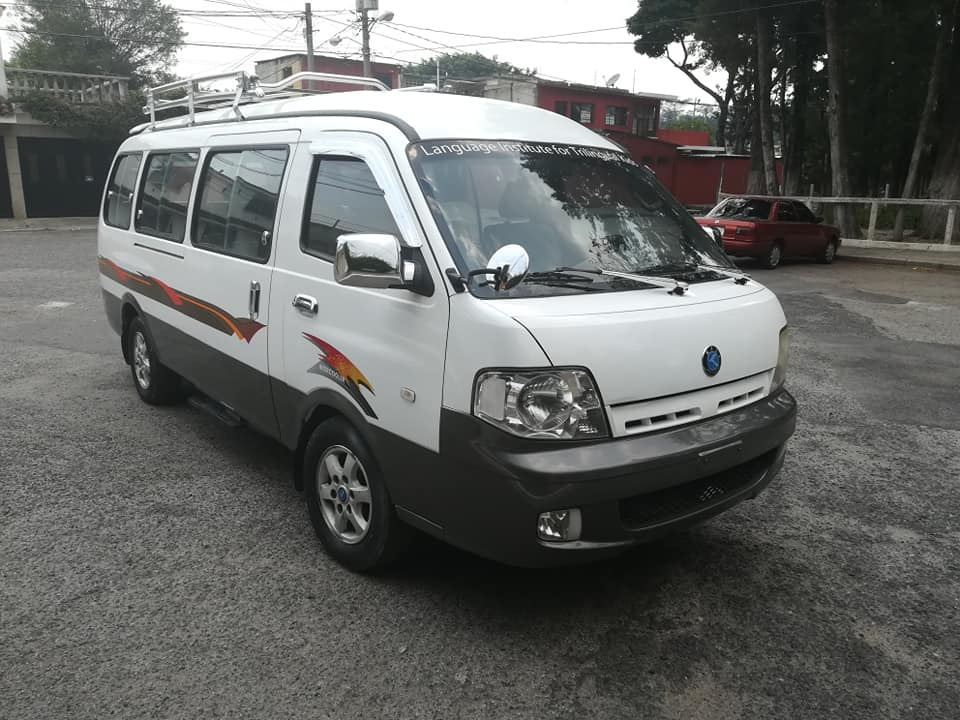bus: (94, 89, 796, 573)
